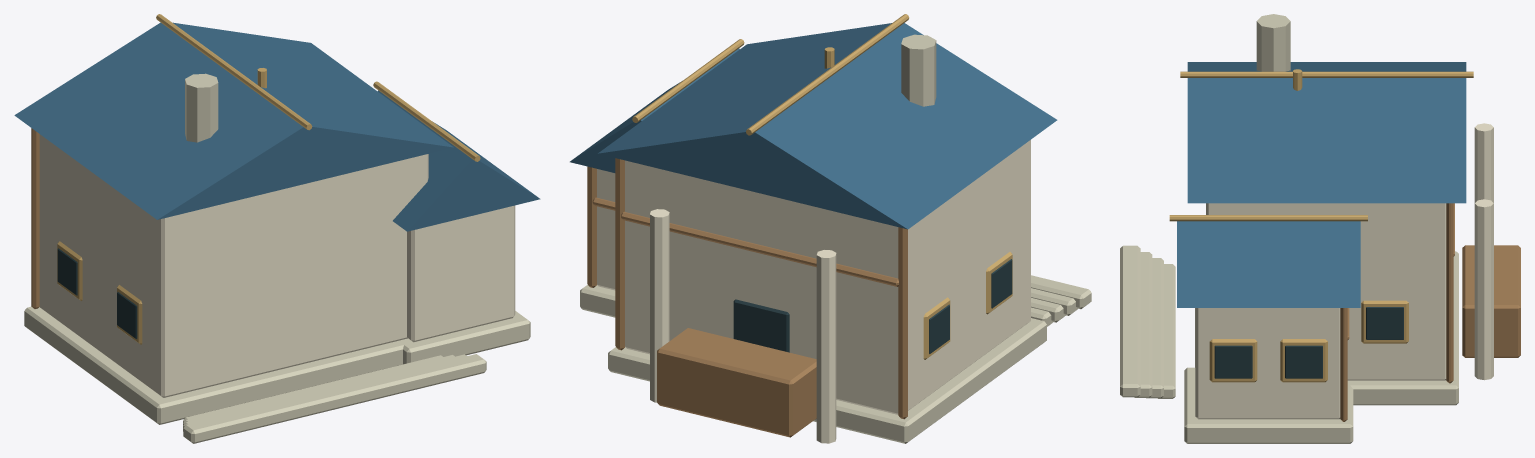
File: level_27.glb
3 views of the same model, side by side, from view 1: azimuth 30°, elevation 25°; view 2: azimuth 150°, elevation 25°; view 3: azimuth 270°, elevation 25° (orthographic). The views are drawn at different scales.
Parts seen in each view (by area): view 1: workshop — level 27; view 2: workshop — level 27; view 3: workshop — level 27.
Part boxes in pixels (x1=…): workshop — level 27: x1=14, y1=14, x2=540, y2=443; workshop — level 27: x1=570, y1=14, x2=1091, y2=443; workshop — level 27: x1=1120, y1=14, x2=1520, y2=443.
Size of the model in its own units: 5.8 by 4.34 by 5.46.
